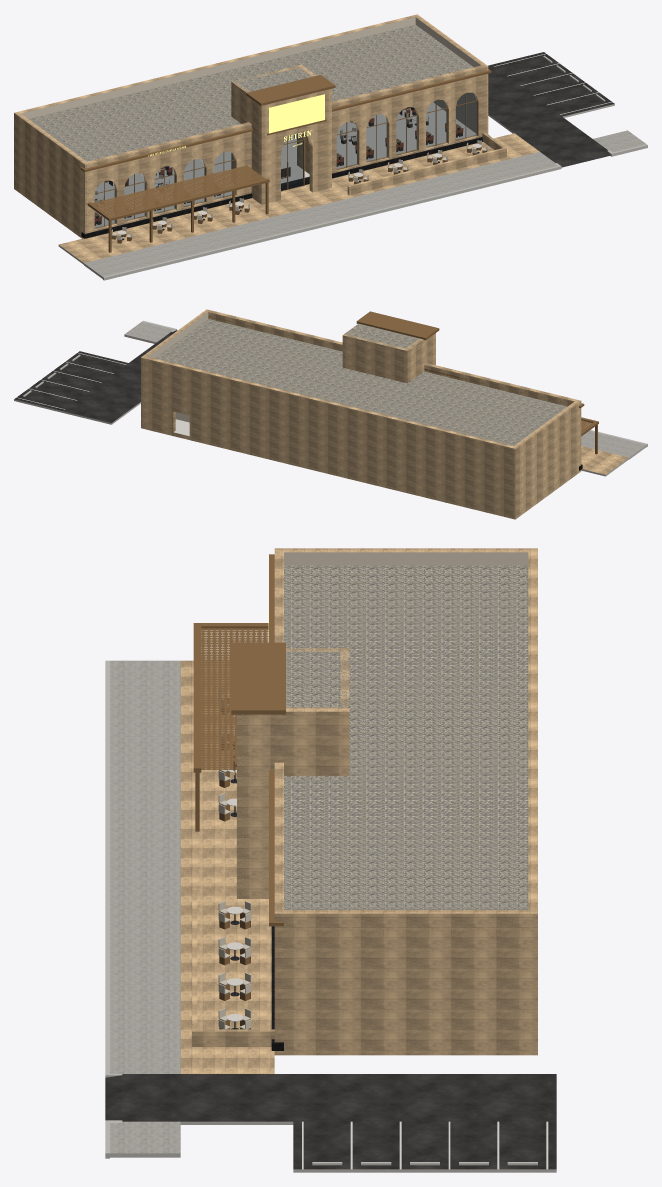
The model's file is shirin_restaurant.glb.
3 views of the same model, one above another, from view 1: azimuth 30°, elevation 25°; view 2: azimuth 150°, elevation 25°; view 3: azimuth 270°, elevation 25° (orthographic). The views are drawn at different scales.
Visible parts, largest first — view 1: P08_LOD0_BUILDING_EXTERIOR_Stone, P08_LOD0_BUILDING_EXTERIOR_Roof, P08_SIDEWALK_FRONTAGE_Main, P08_OPTIONAL_FORECOURT_Terrace, P08_OPTIONAL_PARKING_Asphalt, P08_LOD0_FACADE_DETAILS_Terrace, P08_LOD0_BUILDING_INTERIOR_GroundSlab, P08_LOD0_GLASS_SYSTEM_ArchesGlass, P08_LOD0_FACADE_DETAILS_Bronze, P08_DRIVEWAY_Asphalt, P08_LOD2_FACADE_DETAILS_Bronze, P08_DRIVEWAY_Crossing (+10 smaller); view 2: P08_LOD0_BUILDING_EXTERIOR_Stone, P08_LOD0_BUILDING_EXTERIOR_Roof, P08_OPTIONAL_PARKING_Asphalt, P08_SIDEWALK_FRONTAGE_Main, P08_LOD0_BUILDING_INTERIOR_GroundSlab, P08_LOD0_FACADE_DETAILS_Bronze, P08_OPTIONAL_FORECOURT_Terrace, P08_OPTIONAL_PARKING_Markings; view 3: P08_LOD0_BUILDING_EXTERIOR_Roof, P08_LOD0_BUILDING_EXTERIOR_Stone, P08_SIDEWALK_FRONTAGE_Main, P08_OPTIONAL_PARKING_Asphalt, P08_OPTIONAL_FORECOURT_Terrace, P08_LOD0_FACADE_DETAILS_Terrace, P08_DRIVEWAY_Asphalt, P08_LOD0_FACADE_DETAILS_Bronze, P08_DRIVEWAY_Crossing, P08_LOD1_FURNITURE_Terrace, P08_LOD0_FURNITURE_Terrace, P08_LOD0_BUILDING_INTERIOR_GroundSlab (+1 smaller).
Part boxes in pixels (x1,y1,x2,y2): P08_LOD0_BUILDING_EXTERIOR_Stone: (14,14,489,238); P08_LOD0_BUILDING_EXTERIOR_Roof: (14,24,488,175); P08_SIDEWALK_FRONTAGE_Main: (84,130,647,280); P08_OPTIONAL_FORECOURT_Terrace: (58,133,539,264); P08_OPTIONAL_PARKING_Asphalt: (488,52,614,130); P08_LOD0_FACADE_DETAILS_Terrace: (87,132,506,252); P08_LOD0_BUILDING_INTERIOR_GroundSlab: (14,102,475,238); P08_LOD0_GLASS_SYSTEM_ArchesGlass: (95,93,476,227); P08_LOD0_FACADE_DETAILS_Bronze: (80,69,491,171); P08_DRIVEWAY_Asphalt: (509,117,592,151); P08_LOD2_FACADE_DETAILS_Bronze: (269,94,324,133); P08_DRIVEWAY_Crossing: (540,139,613,169); P08_LOD0_BUILDING_EXTERIOR_Stone: (141,309,582,516); P08_LOD0_BUILDING_EXTERIOR_Roof: (141,319,581,458); P08_OPTIONAL_PARKING_Asphalt: (14,351,140,424); P08_SIDEWALK_FRONTAGE_Main: (124,320,647,459); P08_LOD0_BUILDING_INTERIOR_GroundSlab: (141,419,581,519); P08_LOD0_FACADE_DETAILS_Bronze: (208,311,584,408); P08_OPTIONAL_FORECOURT_Terrace: (581,446,629,476); P08_OPTIONAL_PARKING_Markings: (16,352,126,409); P08_LOD0_BUILDING_EXTERIOR_Roof: (274,565,537,935); P08_LOD0_BUILDING_EXTERIOR_Stone: (237,548,537,1050); P08_SIDEWALK_FRONTAGE_Main: (105,660,180,1158); P08_OPTIONAL_PARKING_Asphalt: (293,1074,556,1172); P08_OPTIONAL_FORECOURT_Terrace: (180,660,274,1073); P08_LOD0_FACADE_DETAILS_Terrace: (192,623,274,1046); P08_DRIVEWAY_Asphalt: (180,1074,293,1124); P08_LOD0_FACADE_DETAILS_Bronze: (231,554,285,926); P08_DRIVEWAY_Crossing: (105,1073,180,1122); P08_LOD1_FURNITURE_Terrace: (218,687,251,1029); P08_LOD0_FURNITURE_Terrace: (219,690,251,1029); P08_LOD0_BUILDING_INTERIOR_GroundSlab: (274,1047,537,1055).
Size of what is drawn, in the model's own units: 64 by 11.5 by 24.
25 materials, 9 textured.
